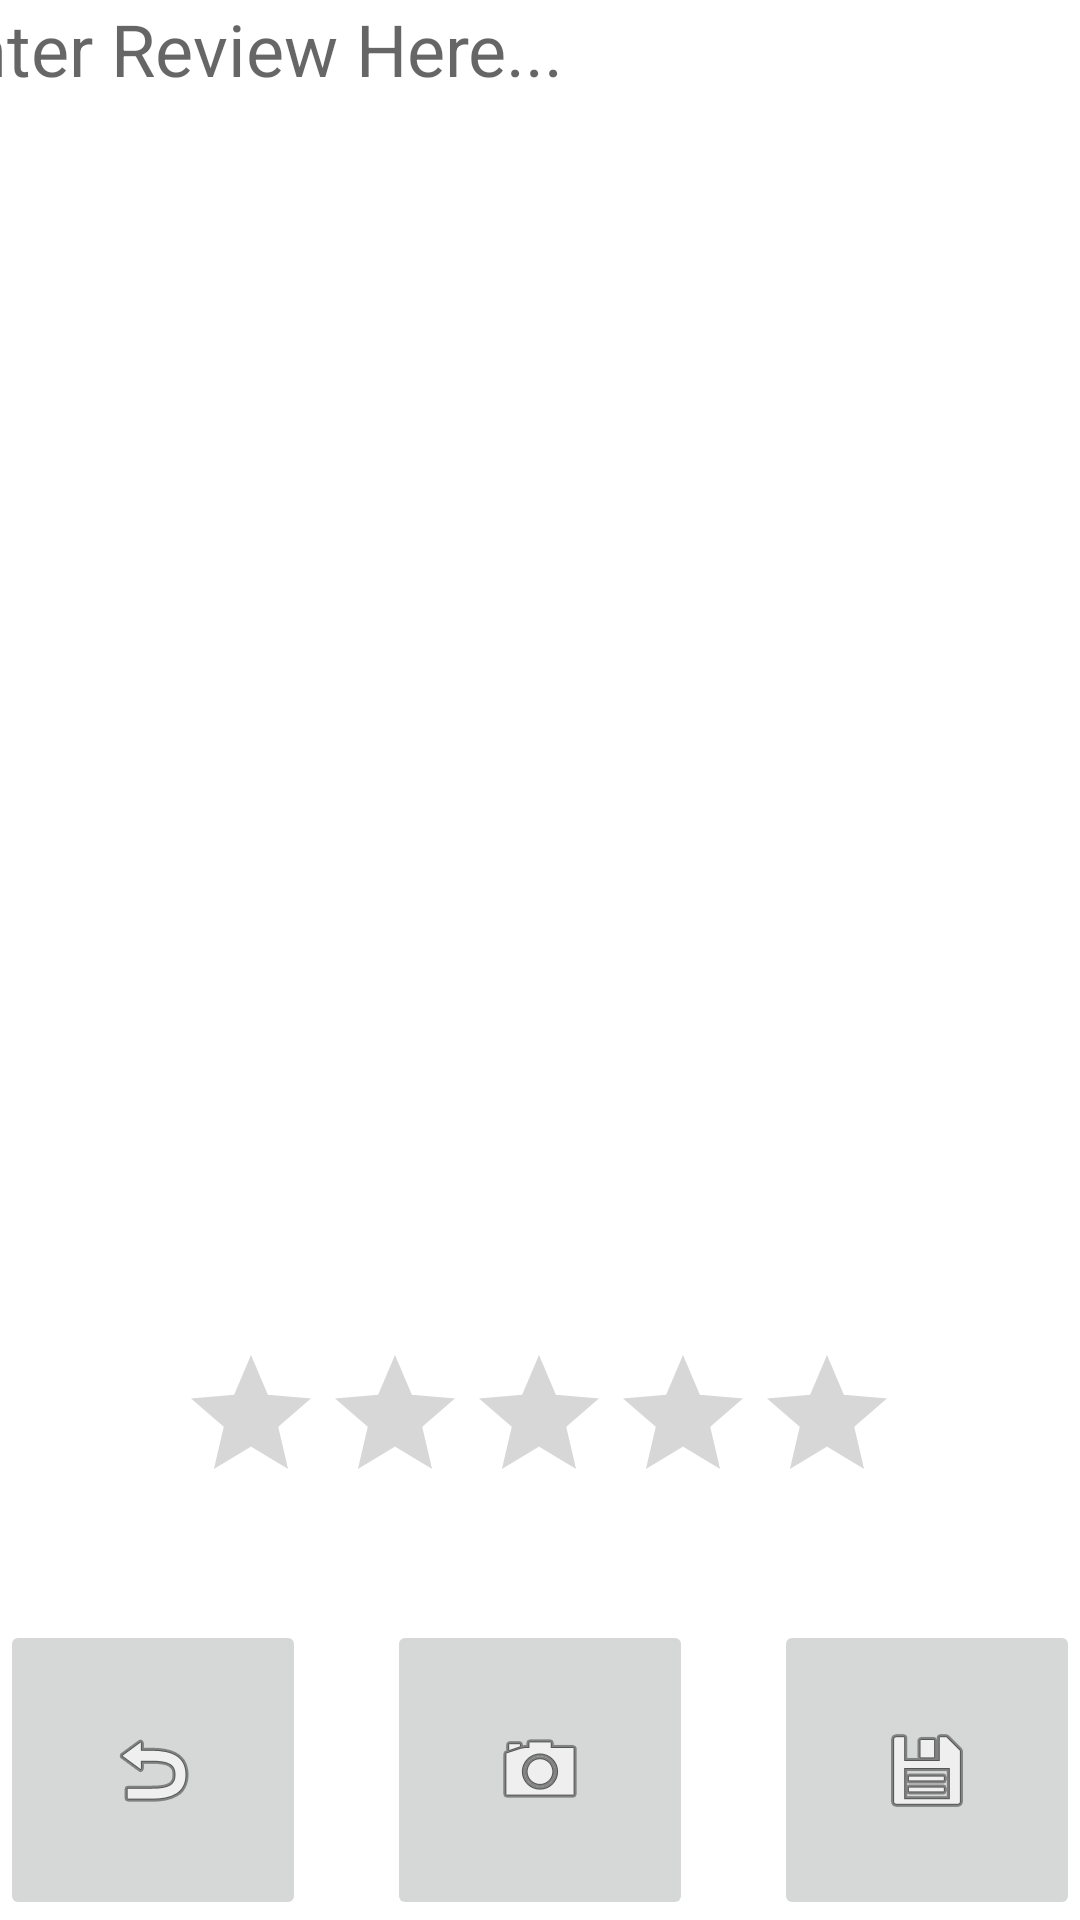

Locate icon controls on the screen. Image size 1080 x 1920, boxes as (x1, y1, x2, y2).
camera: (399, 1638, 681, 1902)
revert: (12, 1638, 294, 1902)
save: (786, 1638, 1068, 1902)
